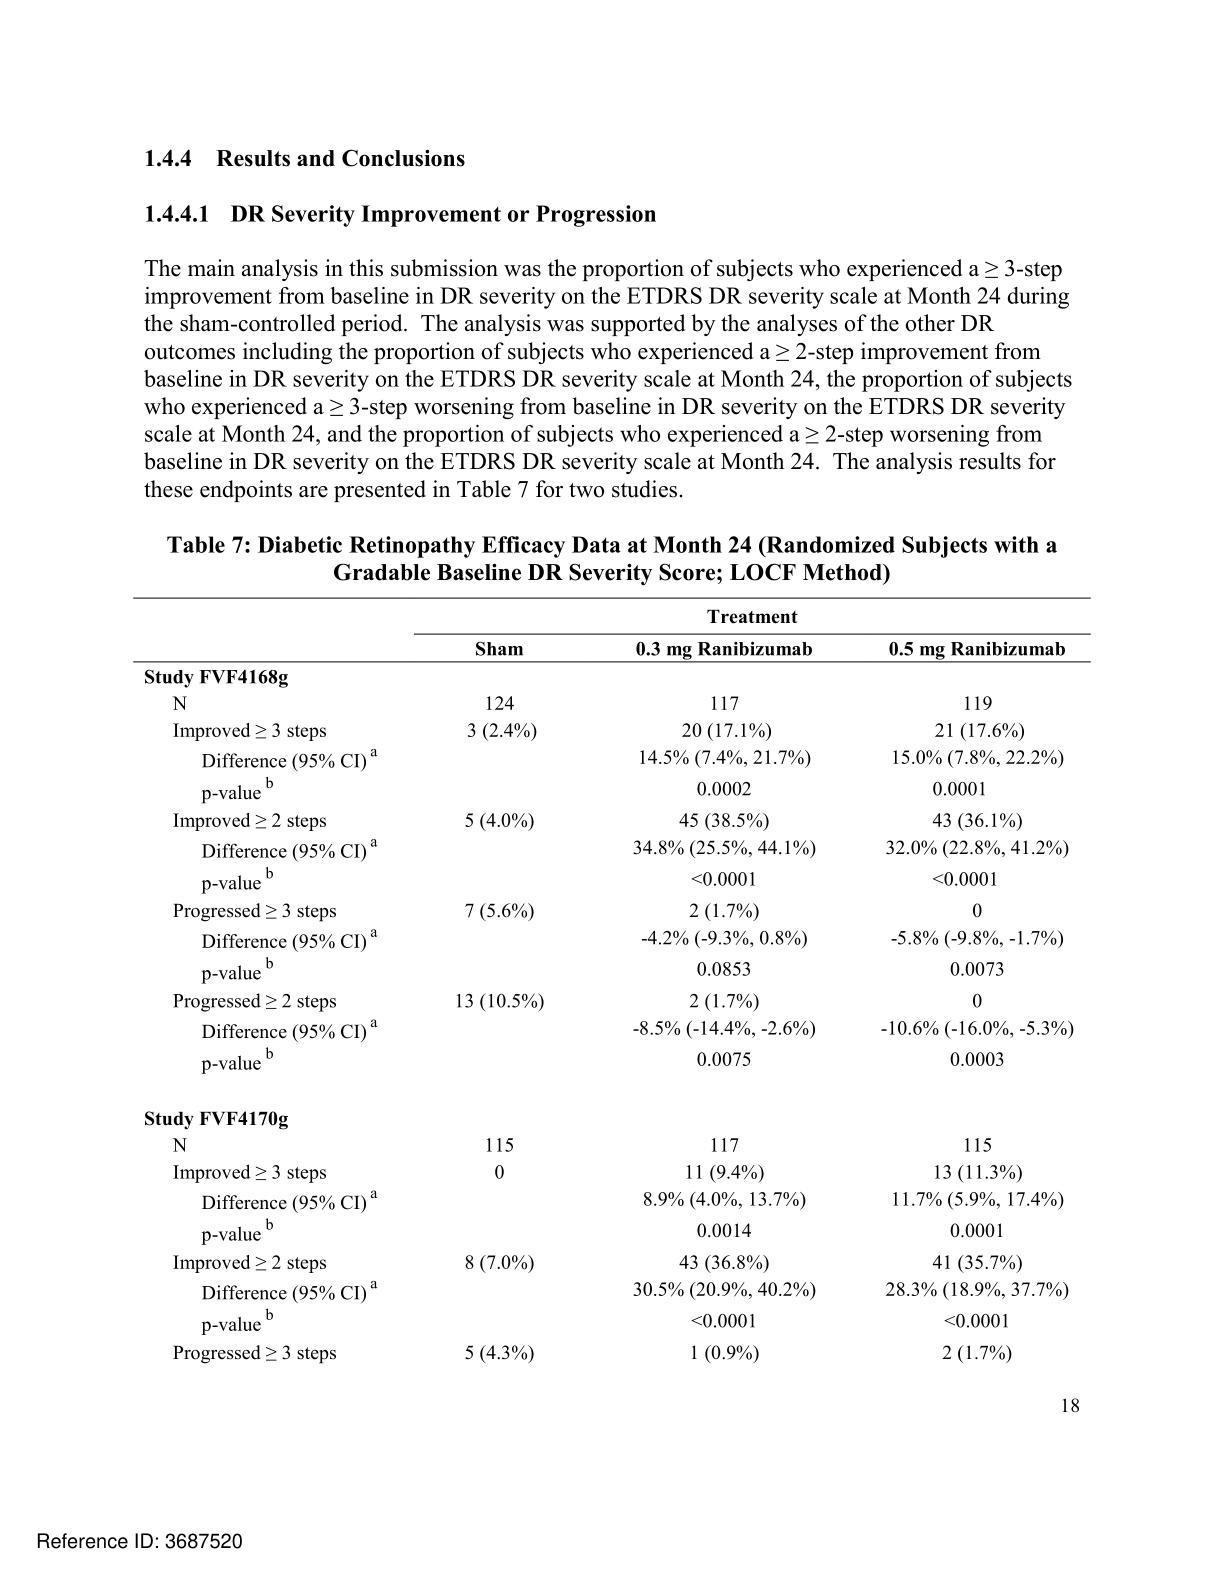partial_lined_merged_cells: (130, 597, 1092, 1367)
